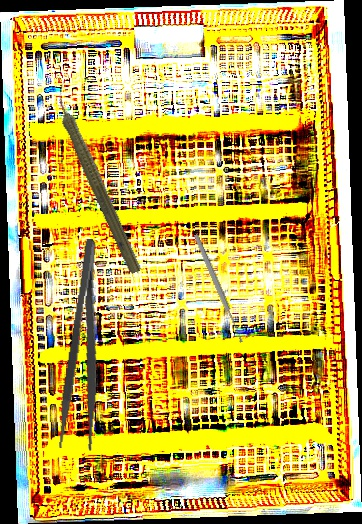Dressing Forceps: (54, 237, 119, 453)
Handpiece: (44, 79, 149, 276)
Surgical Spoon: (192, 233, 245, 344)
